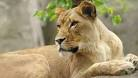lion: (1, 6, 137, 78)
